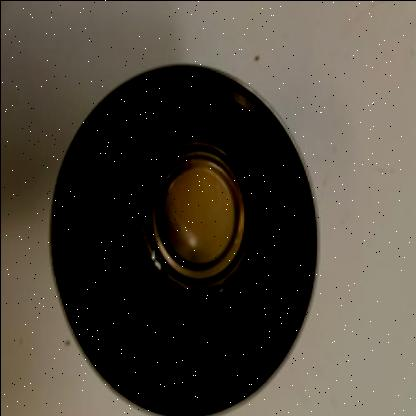Can: (50, 64, 318, 416)
